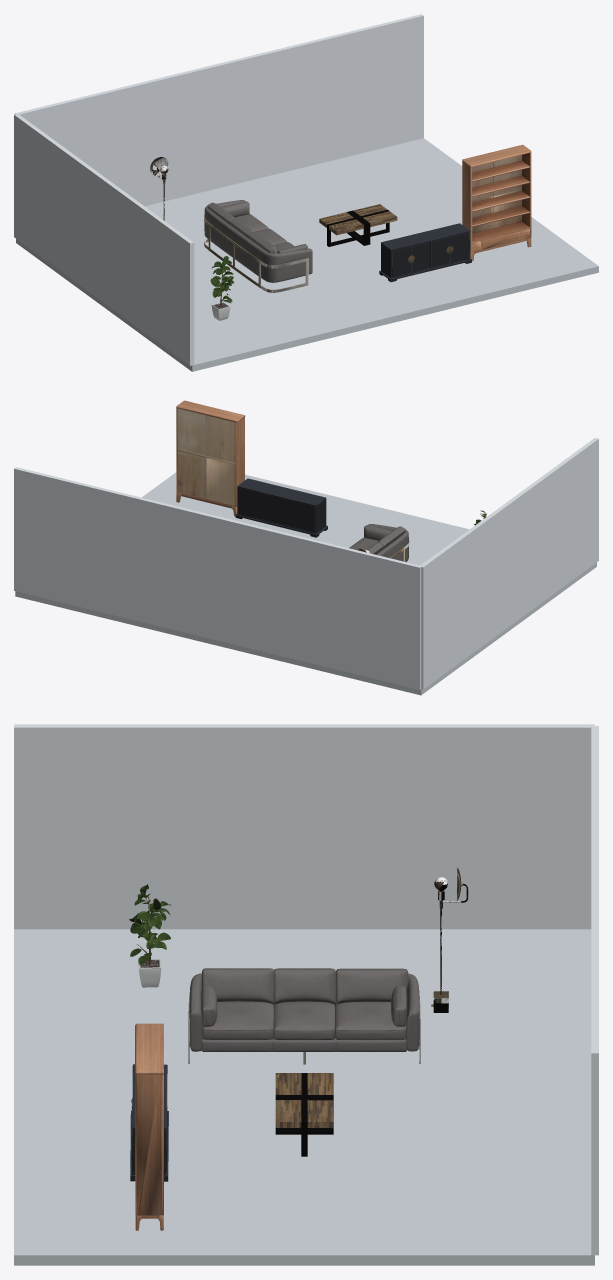
The model's file is stage3.glb.
The picture shows the model from 3 angles, top to bottom: view 1: azimuth 30°, elevation 25°; view 2: azimuth 150°, elevation 25°; view 3: azimuth 270°, elevation 25°; orthographic projection. The views are drawn at different scales.
Parts seen in each view (by area): view 1: Floor, wall_back, wall_left, raw_model.005, raw_model, raw_model.002, raw_model.001, raw_model.004; view 2: wall_back, wall_left, Floor, raw_model.005, raw_model.002, raw_model; view 3: Floor, wall_left, raw_model, raw_model.005, wall_back, raw_model.001, raw_model.004, raw_model.002, raw_model.003.
Part boxes in pixels (left/top/right/bottom): Floor: left=16, top=138, right=598, bottom=371; wall_back: left=15, top=14, right=423, bottom=206; wall_left: left=14, top=114, right=194, bottom=365; raw_model.005: left=462, top=144, right=531, bottom=261; raw_model: left=204, top=200, right=312, bottom=292; raw_model.002: left=379, top=223, right=471, bottom=282; raw_model.001: left=319, top=204, right=397, bottom=246; raw_model.004: left=210, top=256, right=234, bottom=320; wall_back: left=14, top=467, right=421, bottom=689; wall_left: left=420, top=438, right=598, bottom=689; Floor: left=15, top=472, right=596, bottom=695; raw_model.005: left=176, top=400, right=245, bottom=516; raw_model.002: left=235, top=478, right=327, bottom=537; raw_model: left=349, top=524, right=409, bottom=561; Floor: left=14, top=929, right=594, bottom=1265; wall_left: left=14, top=724, right=594, bottom=929; raw_model: left=188, top=968, right=420, bottom=1064; raw_model.005: left=135, top=1023, right=163, bottom=1230; wall_back: left=591, top=726, right=598, bottom=1255; raw_model.001: left=275, top=1073, right=333, bottom=1156; raw_model.004: left=129, top=884, right=170, bottom=987; raw_model.002: left=130, top=1064, right=168, bottom=1181; raw_model.003: left=431, top=867, right=468, bottom=1012.
Size of the model in its own units: 8.04 by 2.42 by 6.04.
8 materials, 6 textured.
